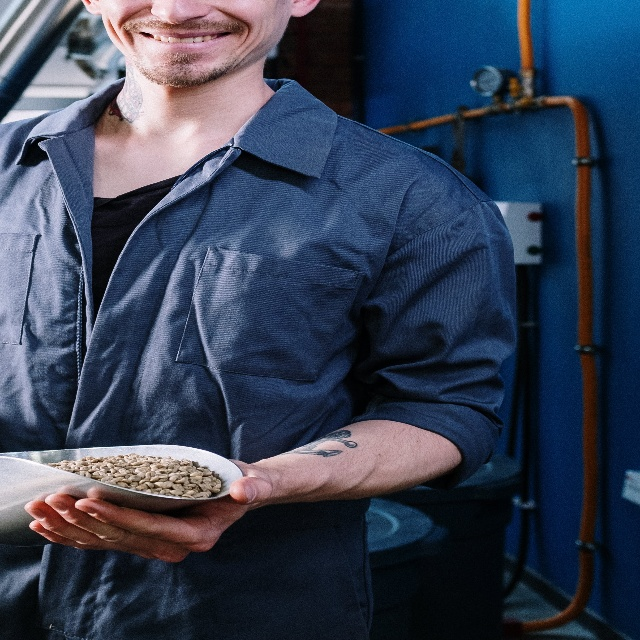Sin_guantes: (24, 446, 270, 569)
